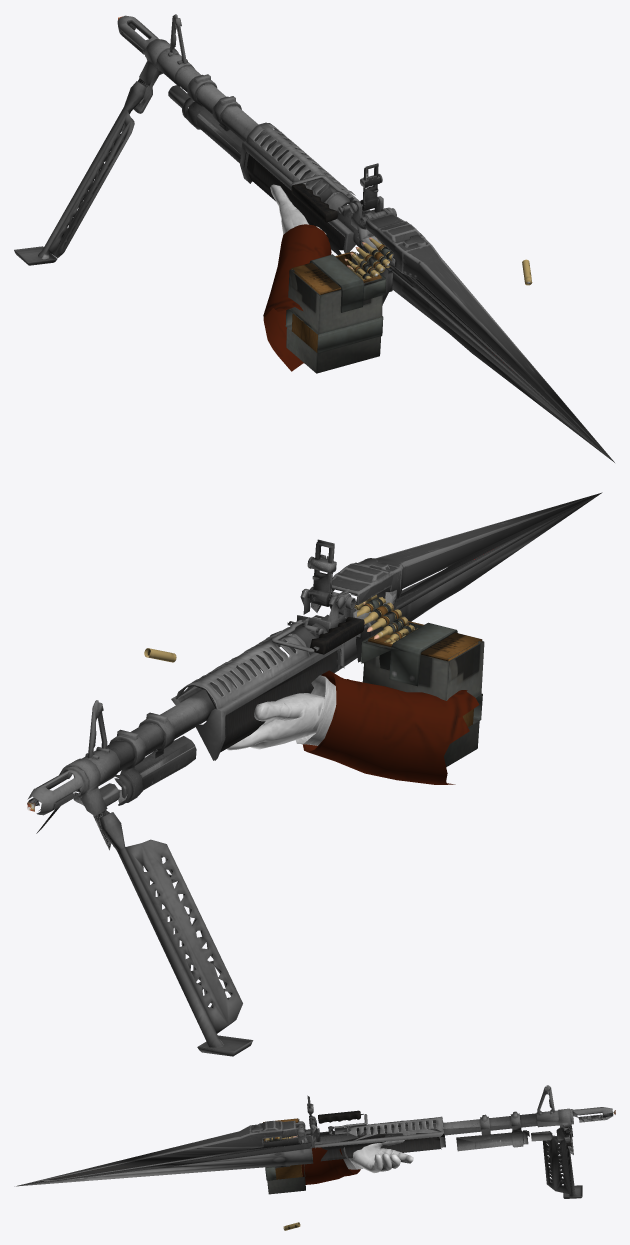
Rendered from frame_14.obj.
3 views of the same model, one above another, from view 1: azimuth 30°, elevation 25°; view 2: azimuth 150°, elevation 25°; view 3: azimuth 270°, elevation 25° (orthographic). The views are drawn at different scales.
Visible parts, largest first — view 1: Mesh.005, PlayerModelMerged.001_PlayerModelMerged, Mesh.001; view 2: Mesh.005, PlayerModelMerged.001_PlayerModelMerged, Mesh.001; view 3: Mesh.005, PlayerModelMerged.001_PlayerModelMerged.
Boxes of the visible parts, x1,y1,x2,y2 form: Mesh.005: (14,14,614,462); PlayerModelMerged.001_PlayerModelMerged: (263,184,331,371); Mesh.001: (344,237,393,279); Mesh.005: (27,492,602,1056); PlayerModelMerged.001_PlayerModelMerged: (226,670,479,784); Mesh.001: (355,597,414,642); Mesh.005: (14,1085,613,1198); PlayerModelMerged.001_PlayerModelMerged: (301,1140,413,1184).
Bounding box in the file's own units: 0.8112 × 0.6119 × 2.26.
